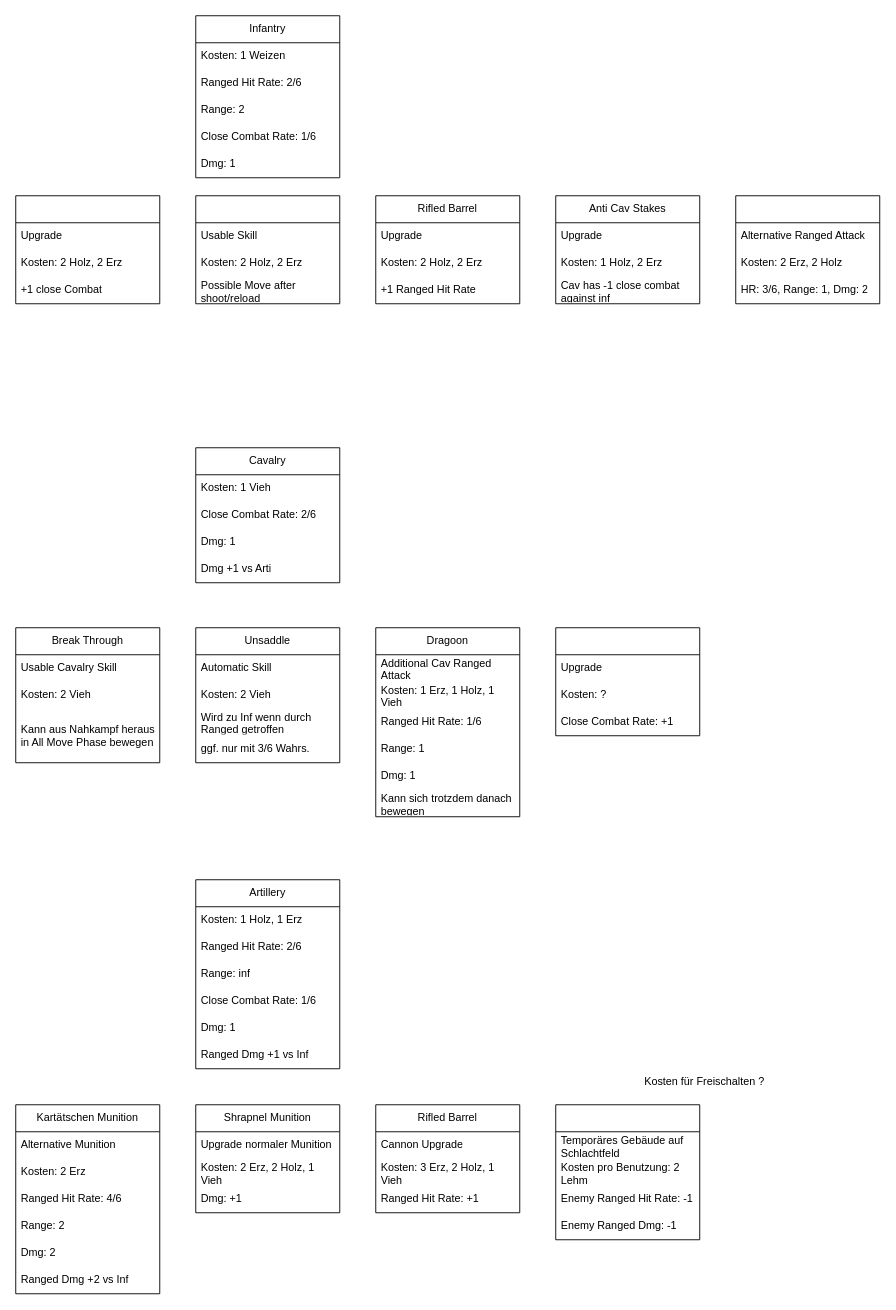
The diagram is 896 pixels wide and 1310 high, and some of its shapes have lost their labels. Here are the shapes that lost their labels. From the top down, the box of each, then its label:
(15, 195, 160, 304): Bayonet
(195, 195, 340, 304): Fire and Advance
(735, 195, 880, 304): Grenadier
(555, 627, 700, 736): Trample Damage
(555, 1104, 700, 1240): Field Fortifications
